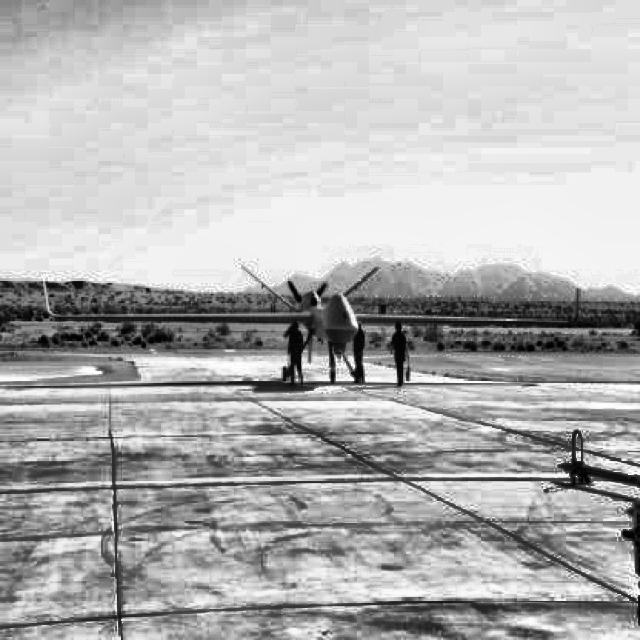MQ9: (42, 265, 580, 384)
